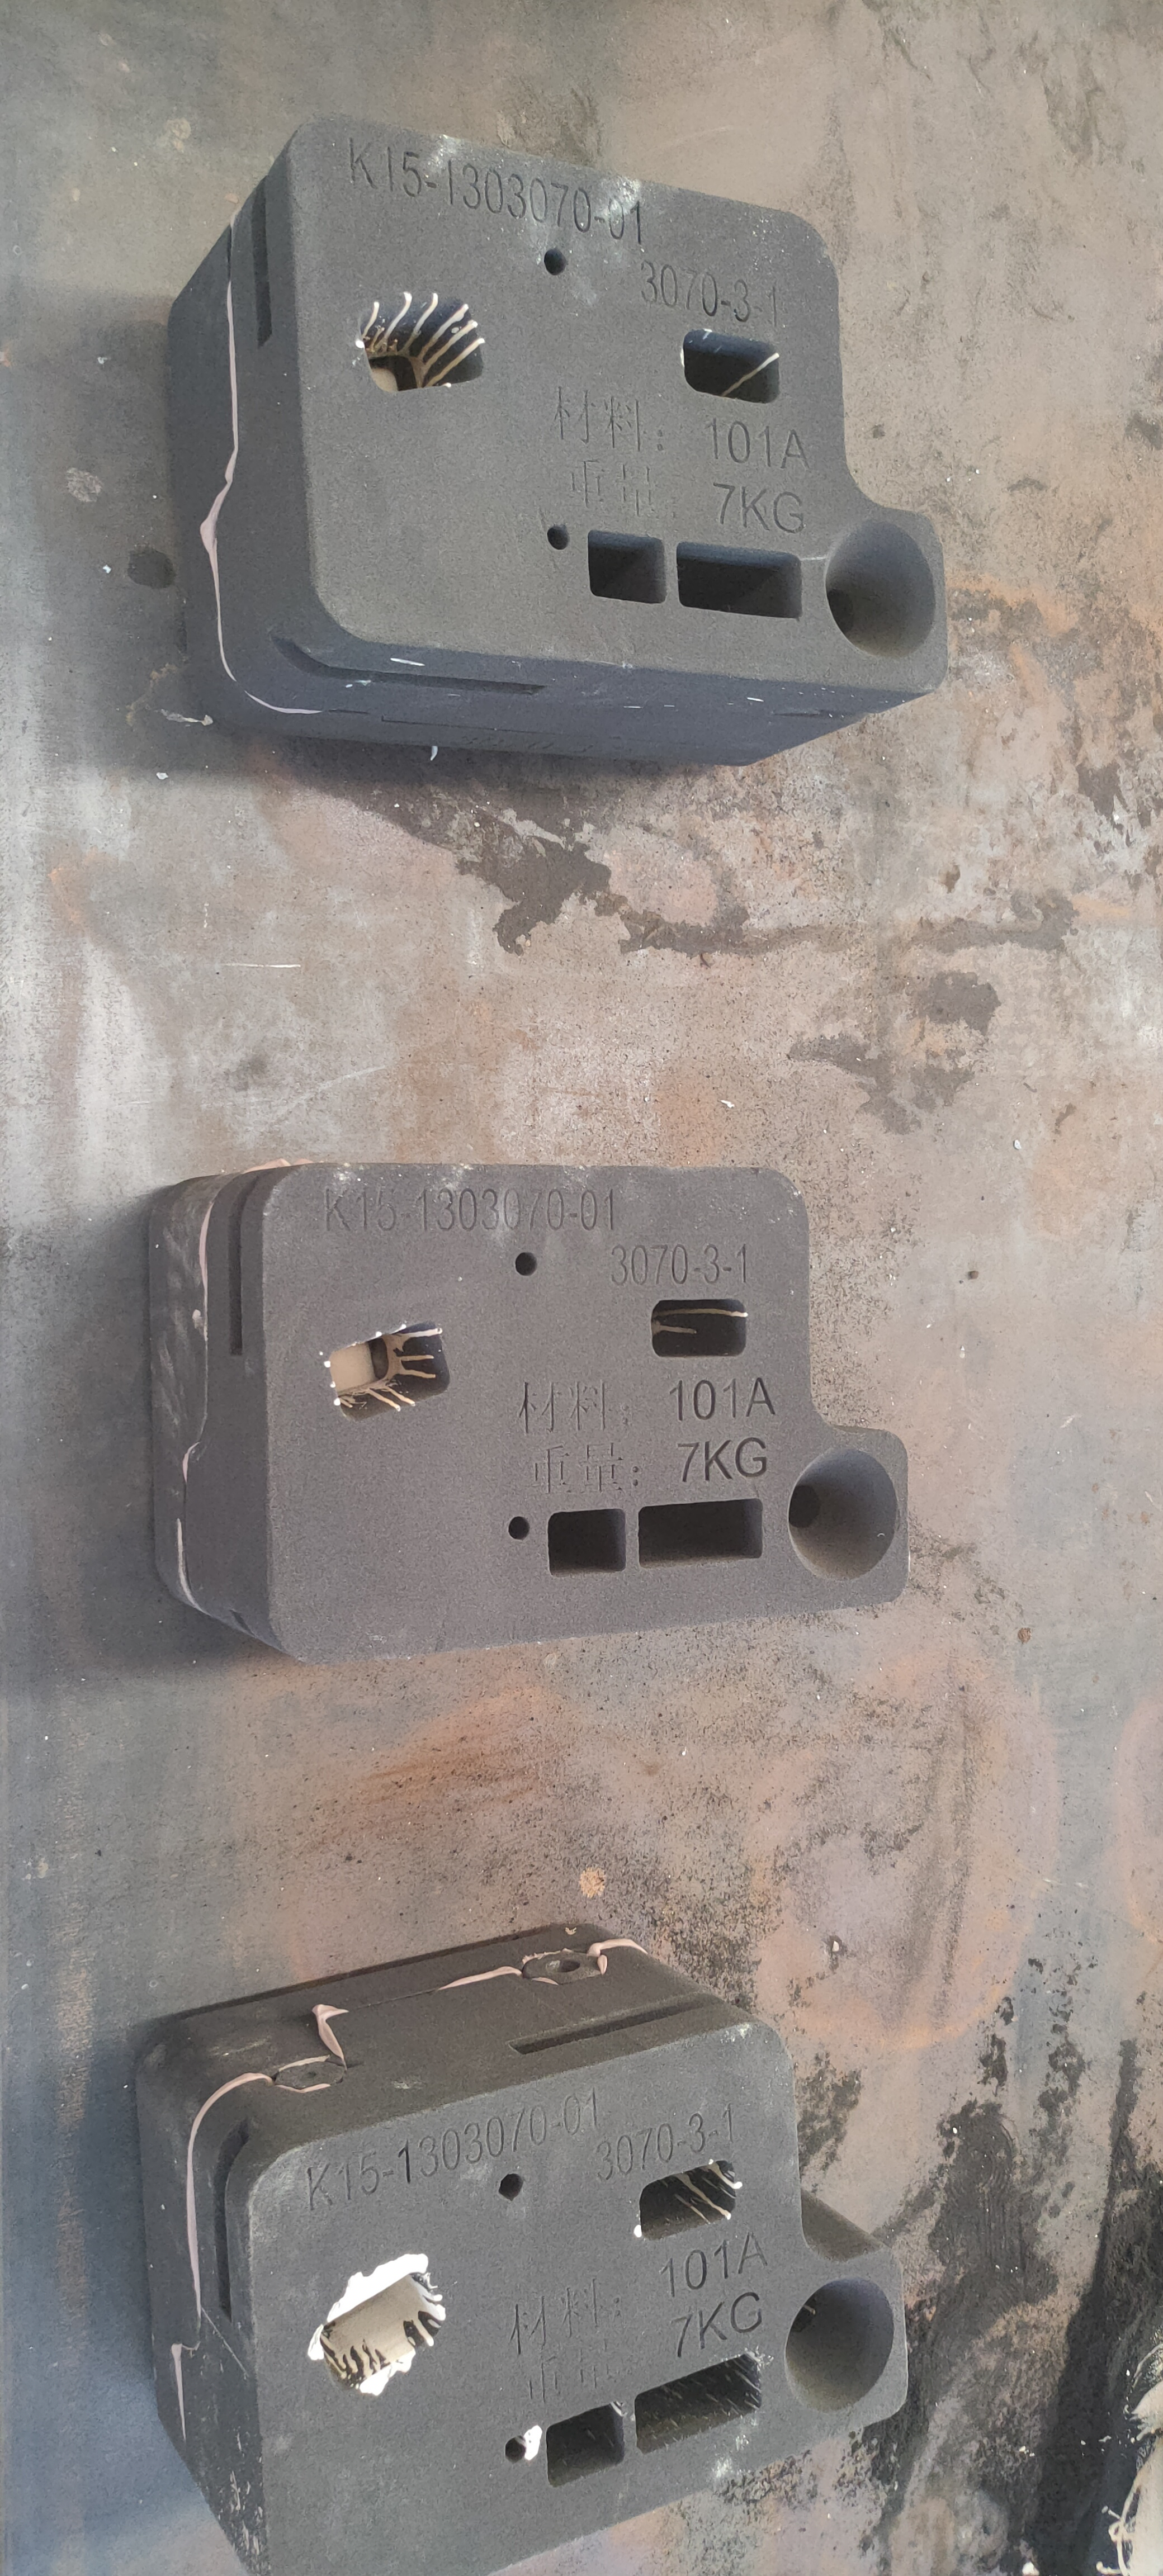pouring hole: (826, 516, 936, 660), (785, 2277, 894, 2413), (788, 1447, 897, 1580)
